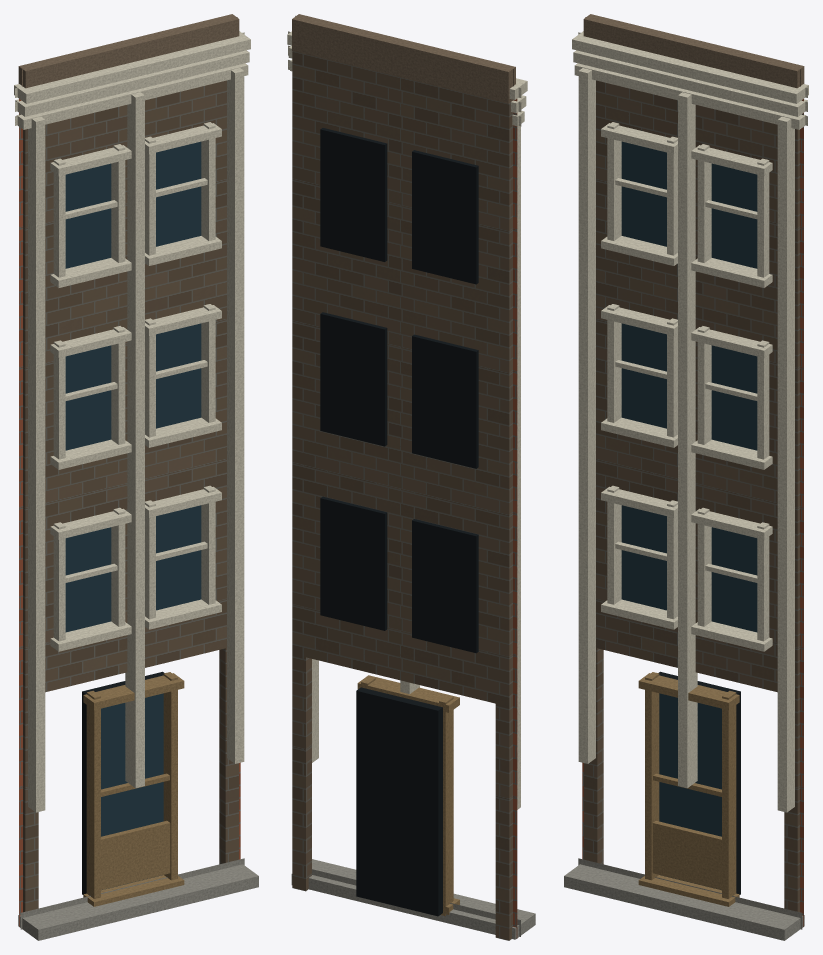
File: OFFC14_lod2.glb
3 renders of one model, left to right at view 1: azimuth 30°, elevation 25°; view 2: azimuth 150°, elevation 25°; view 3: azimuth 330°, elevation 25°, orthographic.
Parts seen in each view (by area): view 1: OFFC14_FRONT_LOD2; view 2: OFFC14_FRONT_LOD2; view 3: OFFC14_FRONT_LOD2.
Boxes of the visible parts, x1,y1,x2,y2 form: OFFC14_FRONT_LOD2: (14,14,258,940); OFFC14_FRONT_LOD2: (287,14,535,940); OFFC14_FRONT_LOD2: (564,14,808,940).
Size of the model in its own units: 3.44 by 12.26 by 0.68.
Materials: 9 (7 with a texture image).
